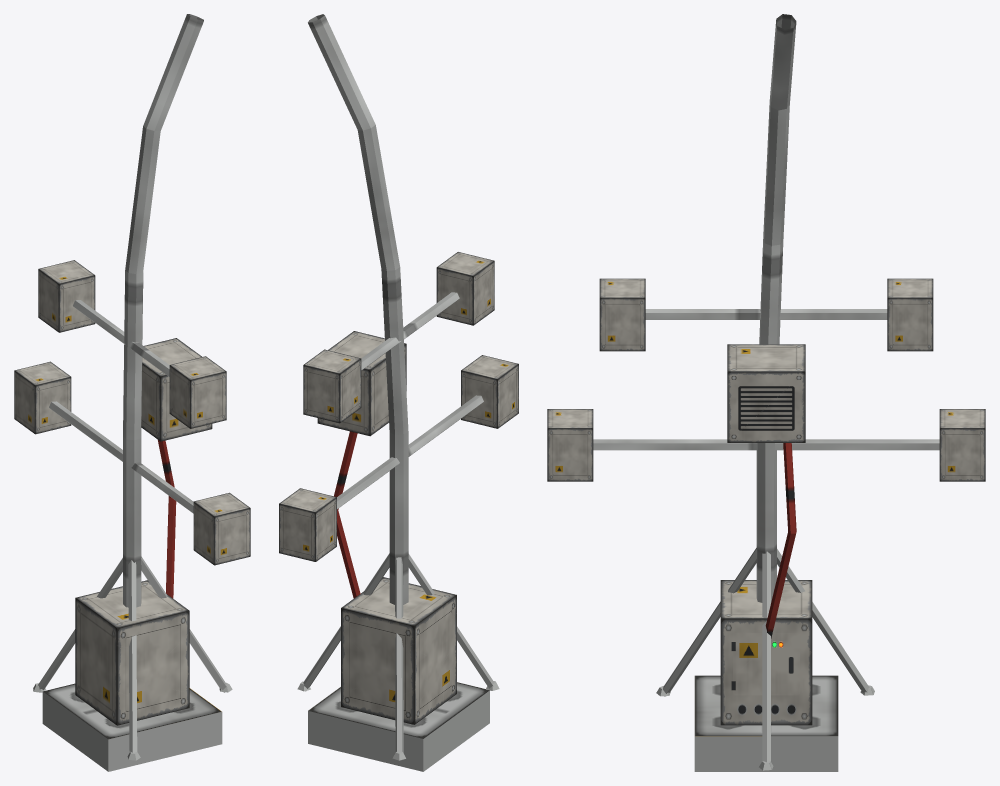
The model's file is part_antenna.fbx.
3 renders of one model, left to right at view 1: azimuth 30°, elevation 25°; view 2: azimuth 150°, elevation 25°; view 3: azimuth 270°, elevation 25°, orthographic. The views are drawn at different scales.
Visible parts, largest first — view 1: part_antenna; view 2: part_antenna; view 3: part_antenna.
Boxes of the visible parts, box(x1,y1,x2,y2) form: part_antenna: box(14, 14, 250, 771); part_antenna: box(279, 14, 518, 771); part_antenna: box(547, 14, 985, 771).
Bounding box in the file's own units: 0.3007 × 1.29 × 0.67.
1 material, 1 textured.
